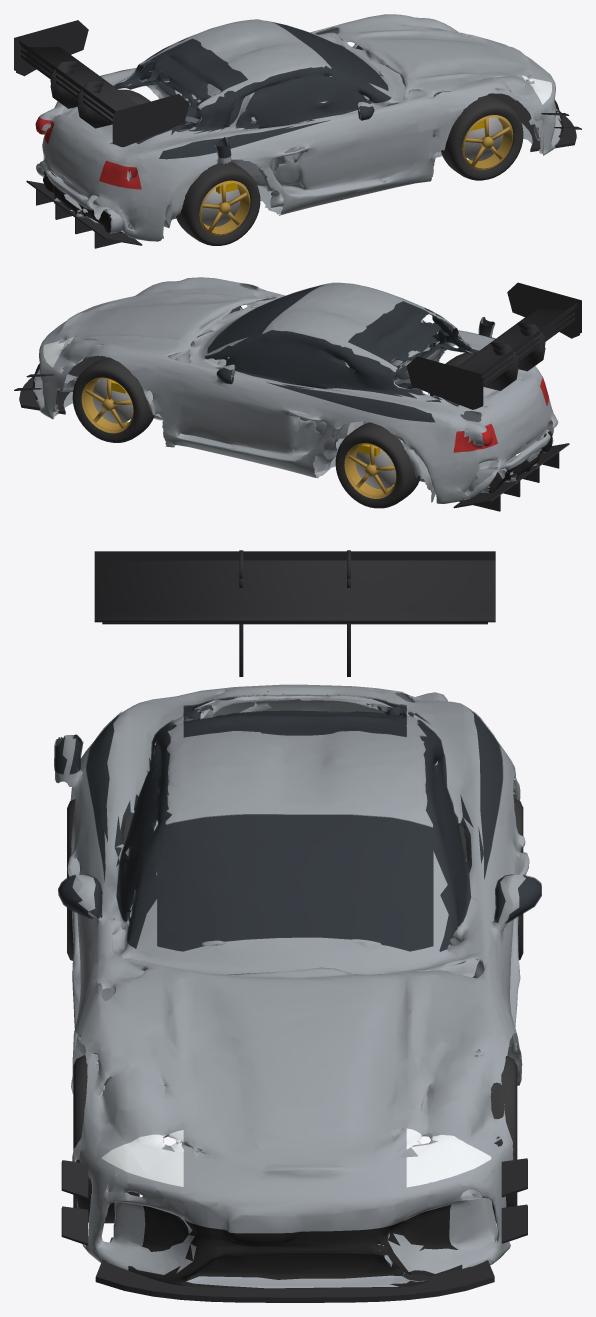
Rendered from porsche_718_cayman_gt4_rs.glb.
3 renders of one model, top to bottom at view 1: azimuth 30°, elevation 25°; view 2: azimuth 150°, elevation 25°; view 3: azimuth 270°, elevation 25°, orthographic. The views are drawn at different scales.
Parts seen in each view (by area): view 1: body, cabin, bumper_rear, wing_rear_up3, wheel_rr_spin, wheel_fr_spin, bumper_front, wing_rear_up2, wing_rear, diffuser, splitter_up, splitter; view 2: body, cabin, bumper_rear, wing_rear_up3, wheel_rl_spin, wheel_fl_spin, bumper_front, wing_rear, diffuser, wing_rear_up2, splitter_up, splitter; view 3: body, bumper_front, cabin, wing_rear_up3, splitter_up, bumper_rear, canards, splitter, wheel_fl_spin, wheel_fr_spin, mirror_l.
Part boxes in pixels (x1,y1,x2,y2): body: [68, 14, 538, 241]; cabin: [100, 19, 391, 158]; bumper_rear: [35, 101, 153, 240]; wing_rear_up3: [14, 20, 189, 147]; wheel_rr_spin: [175, 161, 260, 245]; wheel_fr_spin: [441, 95, 523, 180]; bumper_front: [442, 22, 563, 155]; wing_rear_up2: [16, 33, 114, 143]; wing_rear: [16, 41, 121, 146]; diffuser: [26, 180, 142, 248]; splitter_up: [497, 95, 576, 151]; splitter: [487, 90, 569, 141]; body: [58, 277, 521, 503]; cabin: [204, 282, 495, 422]; bumper_rear: [440, 366, 558, 503]; wing_rear_up3: [406, 282, 581, 409]; wheel_rl_spin: [335, 422, 420, 508]; wheel_fl_spin: [72, 357, 154, 442]; bumper_front: [32, 286, 150, 419]; wing_rear: [474, 303, 579, 409]; diffuser: [453, 443, 569, 511]; wing_rear_up2: [481, 296, 579, 405]; splitter_up: [19, 356, 105, 414]; splitter: [27, 355, 105, 409]; body: [55, 694, 529, 1161]; bumper_front: [76, 1089, 510, 1288]; cabin: [54, 693, 541, 951]; wing_rear_up3: [94, 550, 495, 676]; splitter_up: [95, 1237, 494, 1302]; bumper_rear: [151, 684, 451, 718]; canards: [61, 1158, 527, 1245]; splitter: [102, 1262, 487, 1292]; wheel_fl_spin: [490, 1056, 517, 1222]; wheel_fr_spin: [73, 1055, 139, 1223]; mirror_l: [508, 874, 540, 921].
Bounding box in the file's own units: 4.52 × 1.43 × 1.98.
